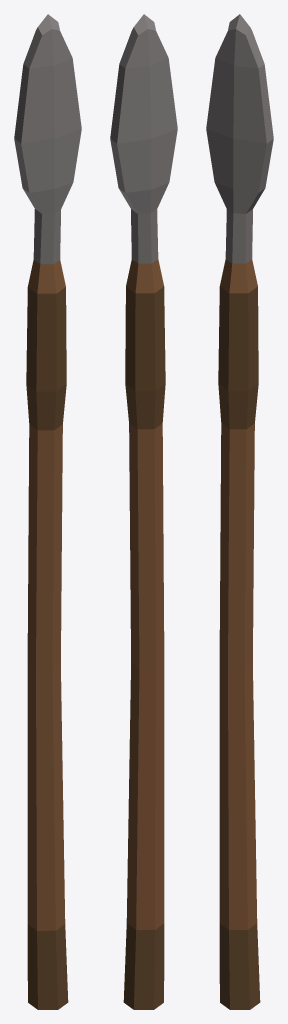
The model's file is zulu-spear-zulu.glb.
3 renders of one model, left to right at view 1: azimuth 30°, elevation 25°; view 2: azimuth 210°, elevation 25°; view 3: azimuth 330°, elevation 25°, orthographic.
Parts seen in each view (by area): view 1: spear-zulu; view 2: spear-zulu; view 3: spear-zulu.
Part boxes in pixels (x1,y1,x2,y2): spear-zulu: [14, 14, 81, 1009]; spear-zulu: [110, 14, 177, 1009]; spear-zulu: [206, 14, 273, 1009].
Size of the model in its own units: 0.066 by 1.03 by 0.0381.
